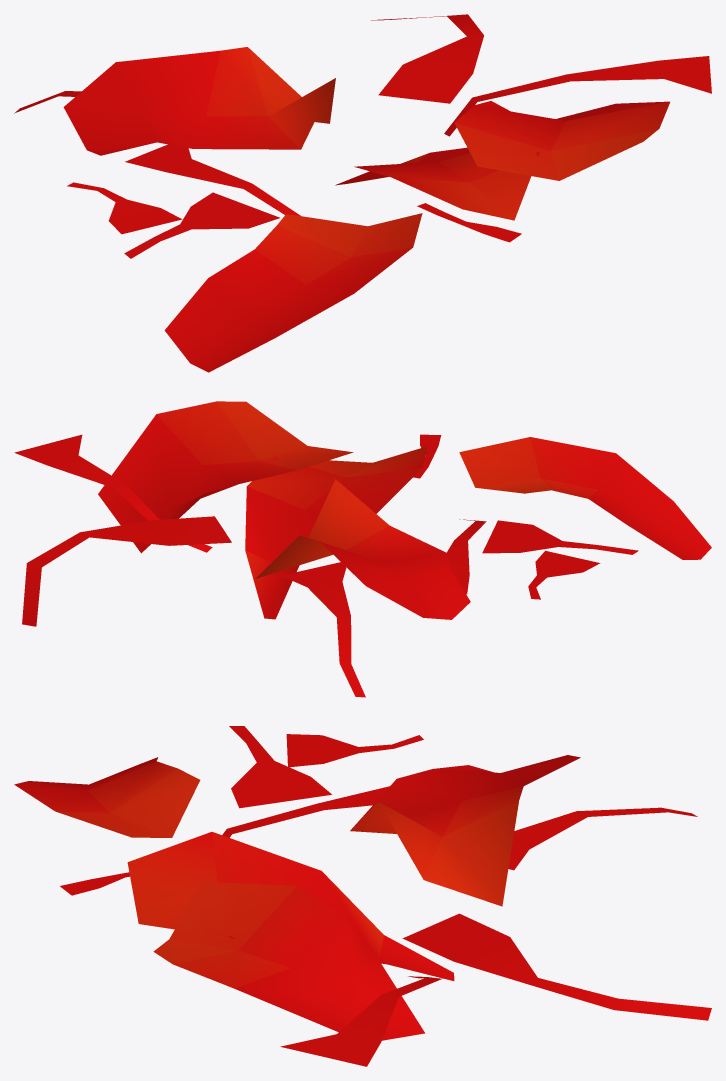
The model's file is Xanadu_LOD2_Var7_siroZ.fbx.
3 views of the same model, one above another, from view 1: azimuth 30°, elevation 25°; view 2: azimuth 150°, elevation 25°; view 3: azimuth 270°, elevation 25° (orthographic). The views are drawn at different scales.
Visible parts, largest first — view 1: _76b4_Var7_LOD2; view 2: _76b4_Var7_LOD2; view 3: _76b4_Var7_LOD2.
Part boxes in pixels (bbox=[...]): _76b4_Var7_LOD2: bbox=[14, 14, 711, 372]; _76b4_Var7_LOD2: bbox=[14, 401, 711, 697]; _76b4_Var7_LOD2: bbox=[14, 726, 711, 1066].
Size of the model in its own units: 42 by 8.82 by 35.89.
